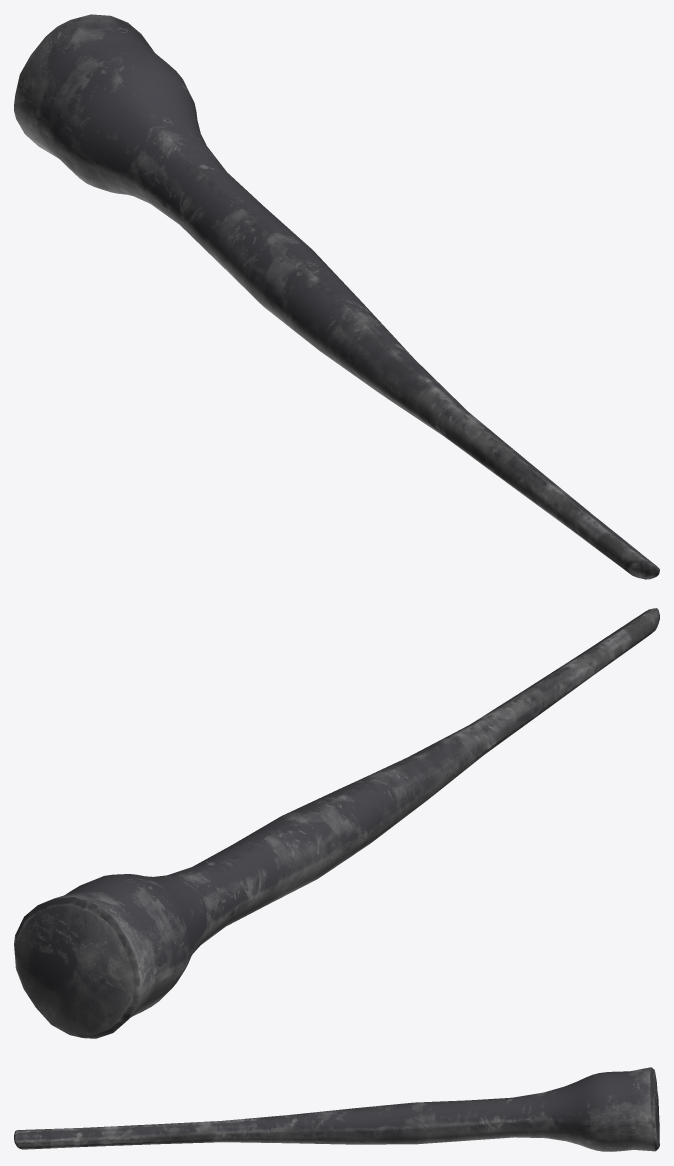
Rendered from bot_part_05.gltf.
The picture shows the model from 3 angles, top to bottom: view 1: azimuth 30°, elevation 25°; view 2: azimuth 150°, elevation 25°; view 3: azimuth 270°, elevation 25°; orthographic projection. The views are drawn at different scales.
Parts seen in each view (by area): view 1: bot_part_05; view 2: bot_part_05; view 3: bot_part_05.
Part boxes in pixels (x1=…): bot_part_05: x1=14, y1=14, x2=659, y2=579; bot_part_05: x1=14, y1=608, x2=659, y2=1038; bot_part_05: x1=14, y1=1067, x2=659, y2=1151.
Bounding box in the file's own units: 0.1697 × 0.1767 × 1.3.
1 material, 1 textured.
